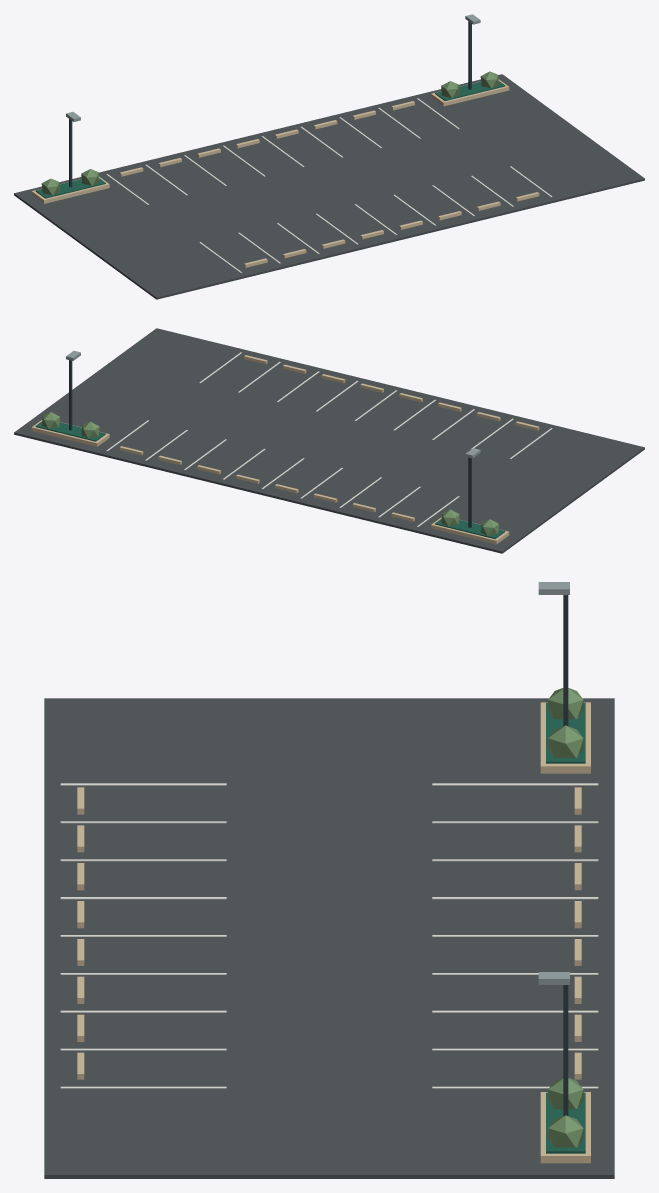
The model's file is parking_medium.glb.
3 views of the same model, one above another, from view 1: azimuth 30°, elevation 25°; view 2: azimuth 150°, elevation 25°; view 3: azimuth 270°, elevation 25° (orthographic). The views are drawn at different scales.
Visible parts, largest first — view 1: parking_medium; view 2: parking_medium; view 3: parking_medium.
Boxes of the visible parts, x1,y1,x2,y2 form: parking_medium: (14,14,644,299); parking_medium: (14,328,644,553); parking_medium: (44,582,614,1178).
Bounding box in the file's own units: 34.6 × 5.42 × 17.5.
